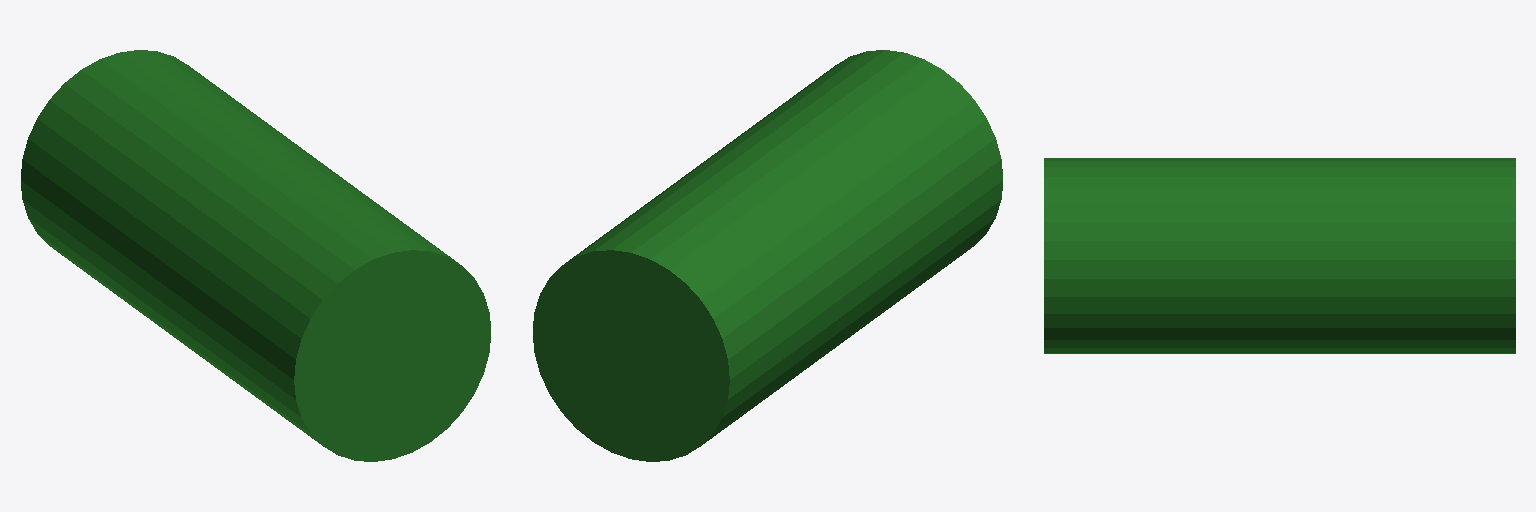
The robot description file, URDF, robot "cylinder":
<?xml version="1.0" encoding="utf-8"?>
<!-- =================================================================================== -->
<!-- |    This document was autogenerated by xacro from cylinder.urdf.xacro            | -->
<!-- |    EDITING THIS FILE BY HAND IS NOT RECOMMENDED                                 | -->
<!-- =================================================================================== -->
<robot name="cylinder">
  <!-- Base link -->
  <link name="obj_base">
    <origin xyz="0 0 0"/>
  </link>
  <joint name="base_joint" type="revolute">
    <limit effort="15" lower="-0.47" upper="0.47" velocity="7"/>
    <parent link="obj_base"/>
    <child link="object_link"/>
    <origin xyz="0 0 0"/>
  </joint>
  <!-- object link -->
  <link name="object_link">
    <visual>
      <geometry>
        <cylinder length="0.12" radius="0.025"/>
      </geometry>
      <origin rpy="1.5707963268 0 0" xyz="0.1 -0.02 0.11"/>
      <material name="green">
        <color rgba="0.2 0.5 0.2 0.7"/>
      </material>
    </visual>
    <collision>
      <geometry>
        <cylinder length="0.12" radius="0.025"/>
      </geometry>
    </collision>
  </link>
</robot>

--- Facts derived from the render (not from the file) ---
Views: 3 orthographic renders of the robot side by side, from view 1: azimuth 30°, elevation 25°; view 2: azimuth 150°, elevation 25°; view 3: azimuth 270°, elevation 25°.
Model cylinder with 2 links and 1 joints (1 revolute), rooted at obj_base, posed every joint at zero.
Visible links, largest first — view 1: object_link; view 2: object_link; view 3: object_link.
Link boxes in pixels (box(x1,y1,x2,y2)): object_link: box(21, 50, 490, 461); object_link: box(533, 50, 1002, 461); object_link: box(1044, 158, 1515, 353).
Bounding box of the posed robot: 0.05 × 0.12 × 0.05 m (x, y, z).
Geometry: primitives only (box / cylinder / sphere), no mesh files.